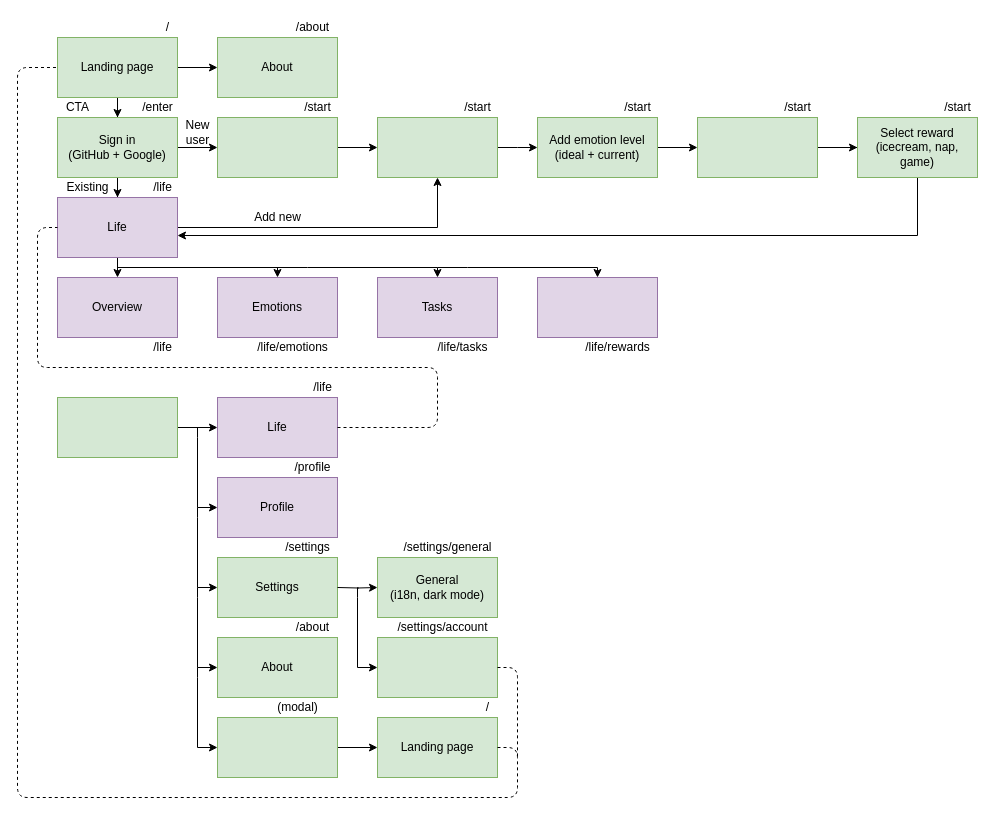
Image size: 995x816. Some labels were removed from this diagram. Here are the shapes that lost their labels. From the top down, the centre of each, then its label:
pixel 277 147: Onboard (what + how it works)
pixel 437 147: Select emotion (happy, sad, stress...)
pixel 757 147: Select task (meditate, read, jog..)
pixel 597 307: Rewards
pixel 117 427: Header
pixel 437 667: Account (delete account)
pixel 277 747: Sign out
